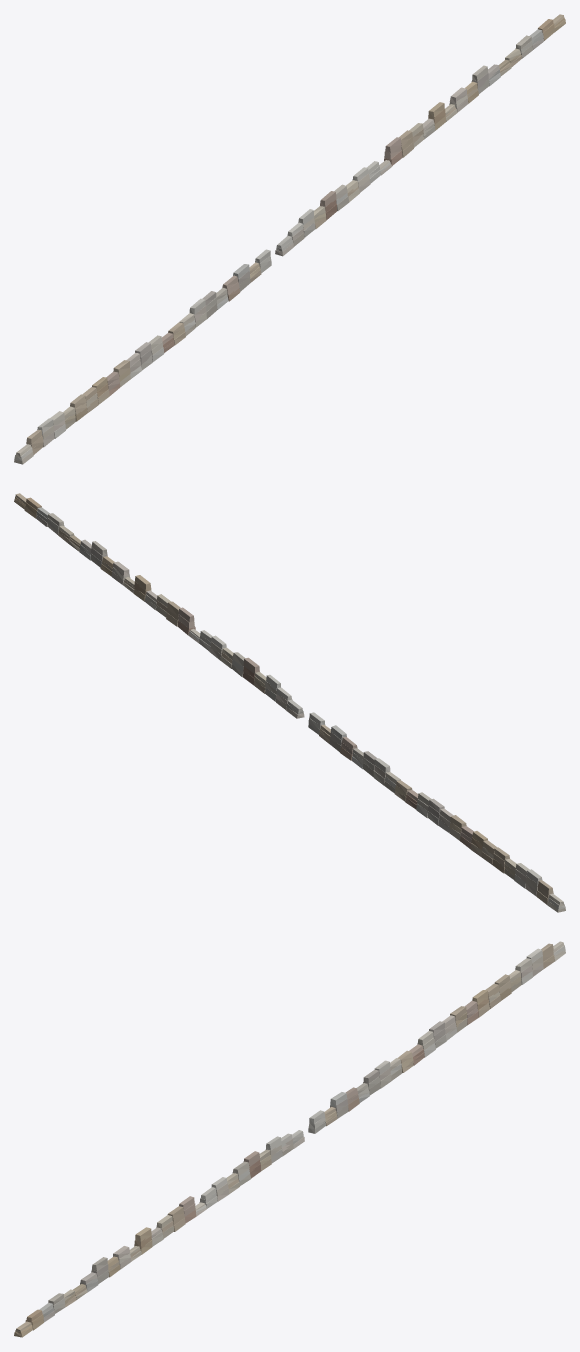
The model's file is farm_-6_3_mid.glb.
The picture shows the model from 3 angles, top to bottom: view 1: azimuth 90°, elevation 25°; view 2: azimuth 150°, elevation 25°; view 3: azimuth 270°, elevation 25°; orthographic projection. The views are drawn at different scales.
Parts seen in each view (by area): view 1: geometry_0; view 2: geometry_0; view 3: geometry_0.
Part boxes in pixels (box(x1,y1,x2,y2)): geometry_0: box(14, 14, 565, 464); geometry_0: box(14, 493, 565, 912); geometry_0: box(14, 941, 565, 1337).
Bounding box in the file's own units: 68.95 × 3.32 × 38.78.
